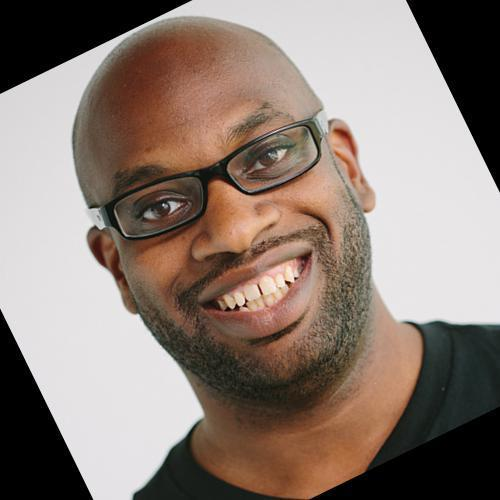Sober: (106, 62, 343, 355)
